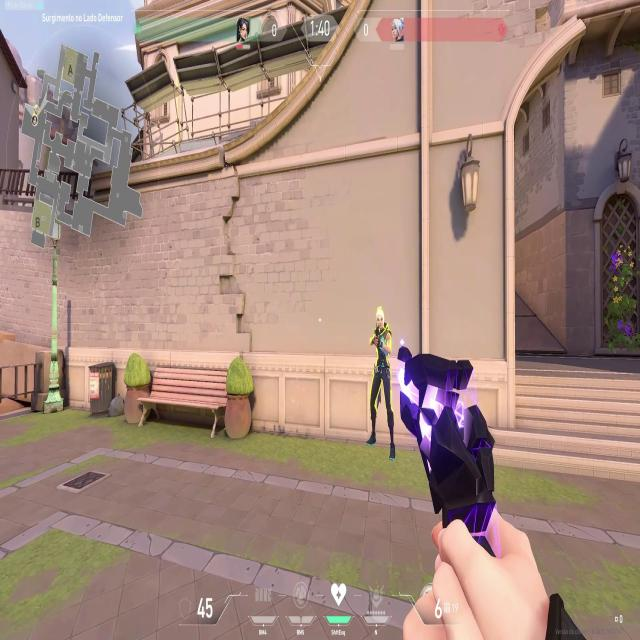head: (373, 306, 387, 331)
